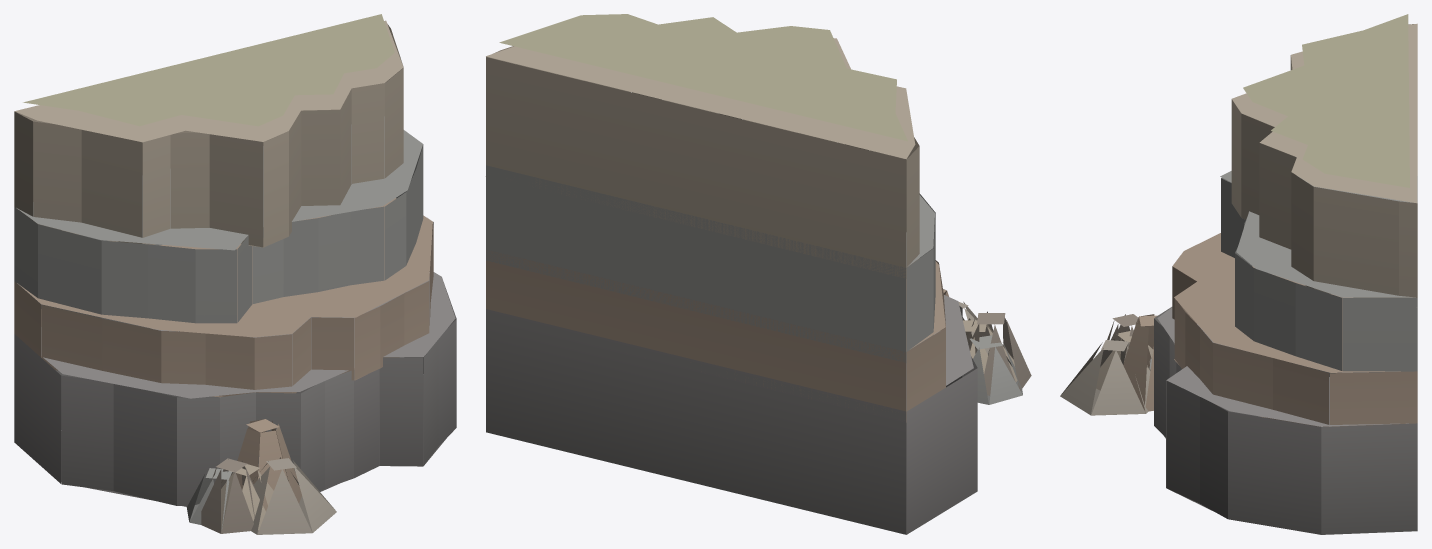
The model's file is iv_cliff_c.lod.glb.
3 renders of one model, left to right at view 1: azimuth 30°, elevation 25°; view 2: azimuth 150°, elevation 25°; view 3: azimuth 270°, elevation 25°, orthographic. The views are drawn at different scales.
Visible parts, largest first — view 1: iv_cliff_c; view 2: iv_cliff_c; view 3: iv_cliff_c.
Part boxes in pixels (x1,y1,x2,y2): iv_cliff_c: (14,14,456,534); iv_cliff_c: (485,14,1031,534); iv_cliff_c: (1060,14,1417,534).
Size of the model in its own units: 16 by 13.55 by 12.95.
